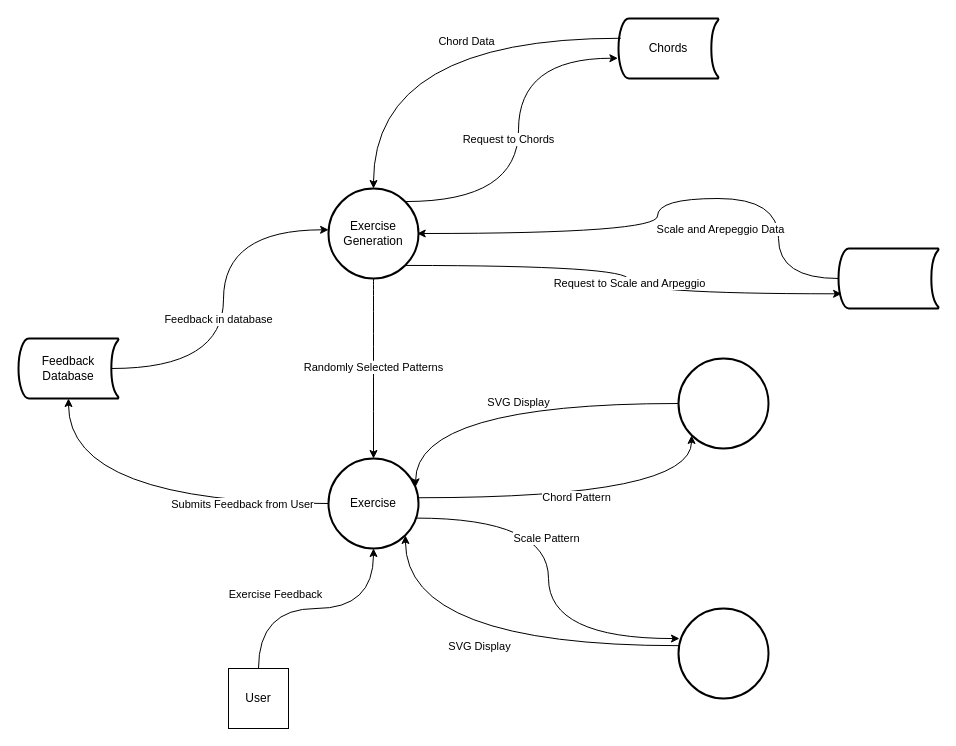
Image size: 956x746. Some labels were removed from this diagram. Here are the shapes that lost their labels. From the top down, the centre of each, then its label:
the point at 888,278: Scales and Arepeggios
the point at 723,403: Draw Chart
the point at 723,653: Draw TAB
